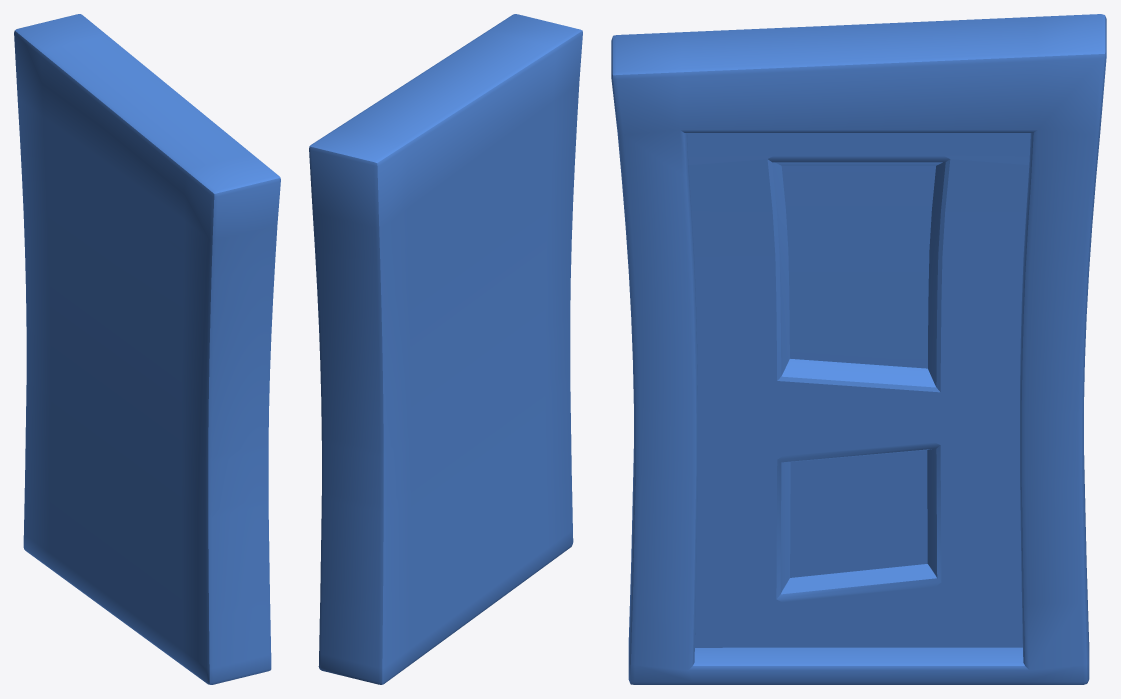
The model's file is Puerta.fbx.
3 renders of one model, left to right at view 1: azimuth 30°, elevation 25°; view 2: azimuth 150°, elevation 25°; view 3: azimuth 270°, elevation 25°, orthographic. The views are drawn at different scales.
Parts seen in each view (by area): view 1: Puerta; view 2: Puerta; view 3: Puerta.
Part boxes in pixels (x1,y1,x2,y2): Puerta: [14, 14, 280, 684]; Puerta: [309, 14, 582, 684]; Puerta: [611, 14, 1106, 684].
Bounding box in the file's own units: 51.7 × 369 × 261.
